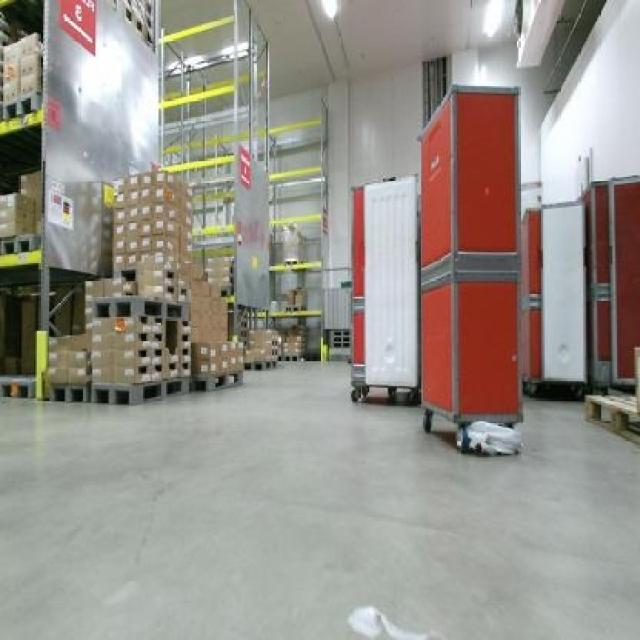floor: (0, 360, 637, 637)
pallets: (49, 169, 242, 402), (418, 86, 518, 446), (351, 174, 415, 398)
